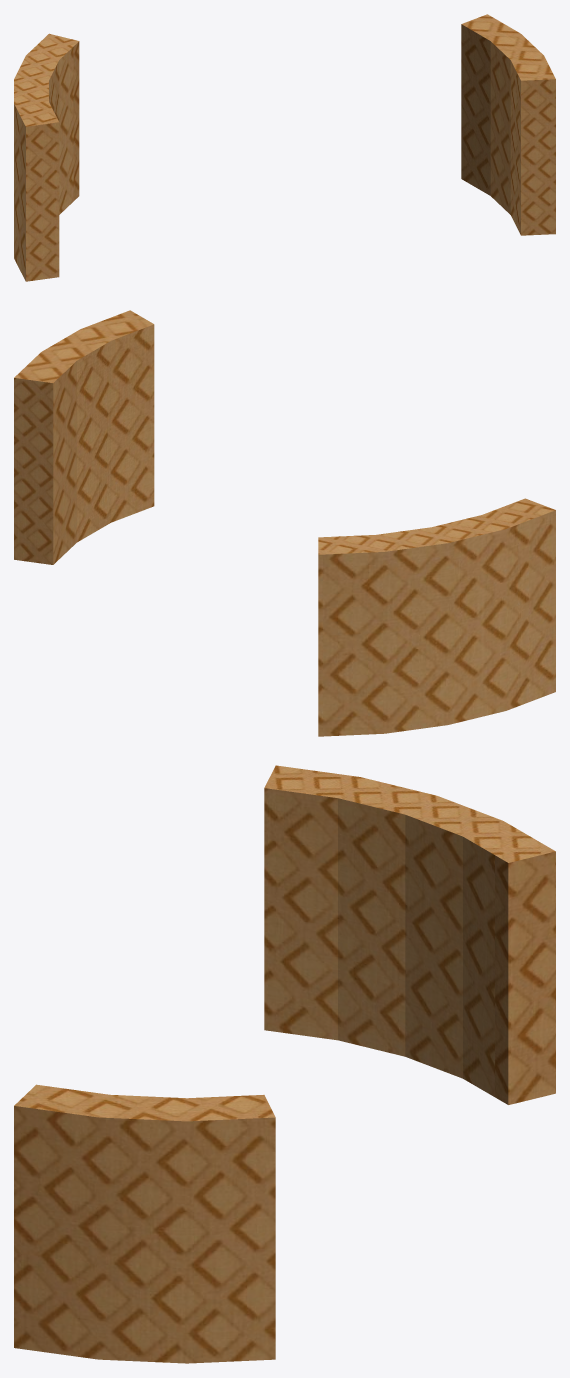
File: doura.fbx
3 renders of one model, top to bottom at view 1: azimuth 30°, elevation 25°; view 2: azimuth 150°, elevation 25°; view 3: azimuth 270°, elevation 25°, orthographic. The views are drawn at different scales.
Visible parts, largest first — view 1: pCylinder7; view 2: pCylinder7; view 3: pCylinder7.
Part boxes in pixels (bbox=[...]): pCylinder7: bbox=[14, 14, 555, 281]; pCylinder7: bbox=[14, 310, 555, 736]; pCylinder7: bbox=[14, 765, 555, 1363].
Size of the model in its own units: 2.52 by 0.7991 by 1.62.
Materials: 1 (1 with a texture image).
